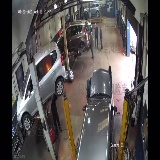fire: (46, 60, 54, 76)
